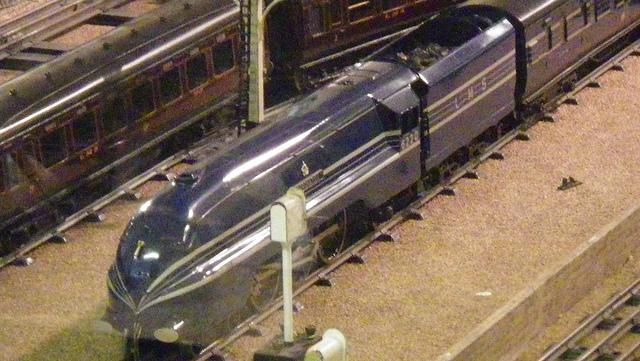Train: (94, 1, 639, 350), (1, 1, 451, 262)
